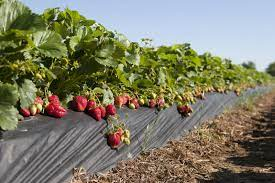ripe: (107, 131, 120, 151), (73, 94, 87, 112), (54, 104, 68, 118), (93, 105, 102, 122), (48, 92, 60, 104), (86, 98, 96, 111), (20, 105, 30, 118), (107, 103, 117, 115), (46, 104, 56, 116), (99, 104, 108, 116), (31, 95, 42, 103), (129, 97, 139, 105), (176, 104, 185, 112), (121, 95, 127, 104), (149, 99, 154, 107)
unripe: (34, 100, 44, 113), (115, 95, 123, 108), (123, 129, 130, 138), (123, 137, 130, 145), (31, 104, 36, 115), (128, 102, 134, 110), (140, 96, 144, 105)
